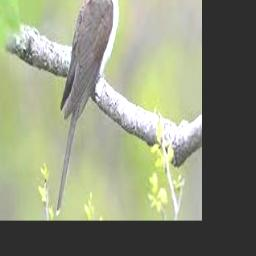Cuckoo: (56, 0, 126, 214)
